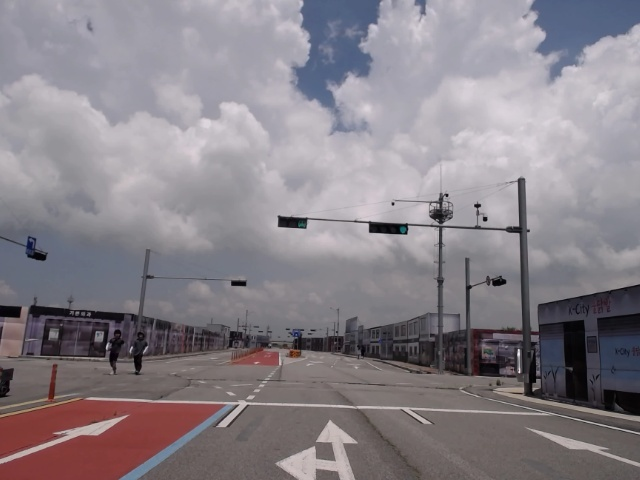straight_green_4: (369, 221, 409, 233)
